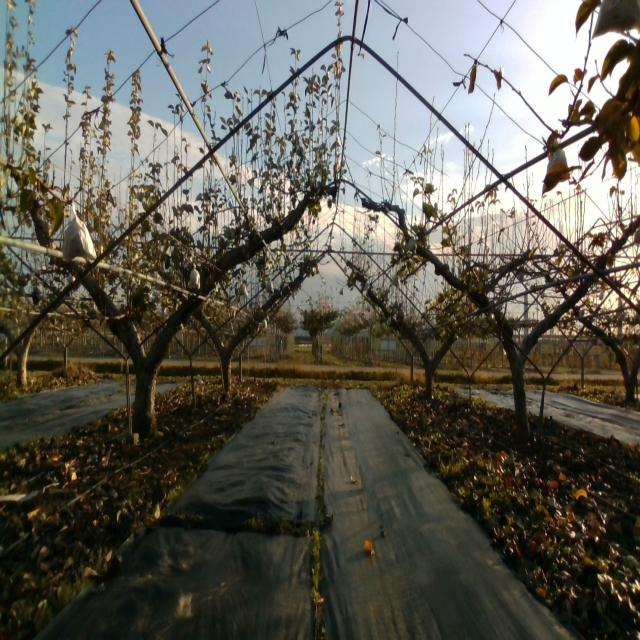pearbags: (62, 202, 97, 269), (544, 132, 567, 184), (189, 261, 201, 289), (404, 236, 416, 255), (238, 280, 248, 298)
